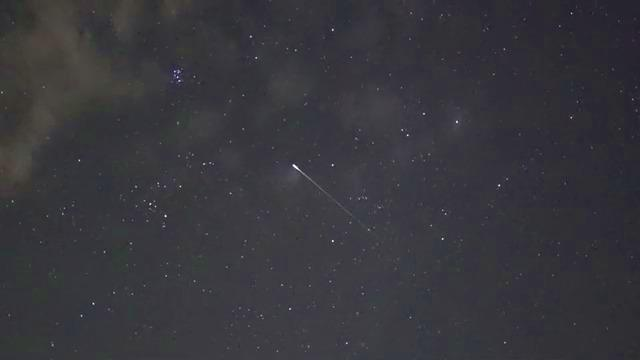meteorite: (284, 158, 366, 220)
